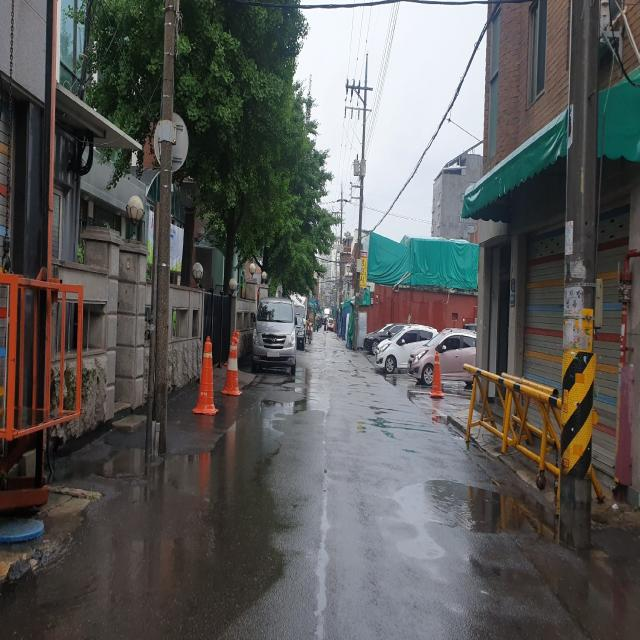car: (407, 328, 477, 386), (252, 296, 297, 374), (375, 325, 439, 373), (363, 324, 408, 356), (294, 314, 306, 349)
motorbike: (307, 322, 313, 344)
